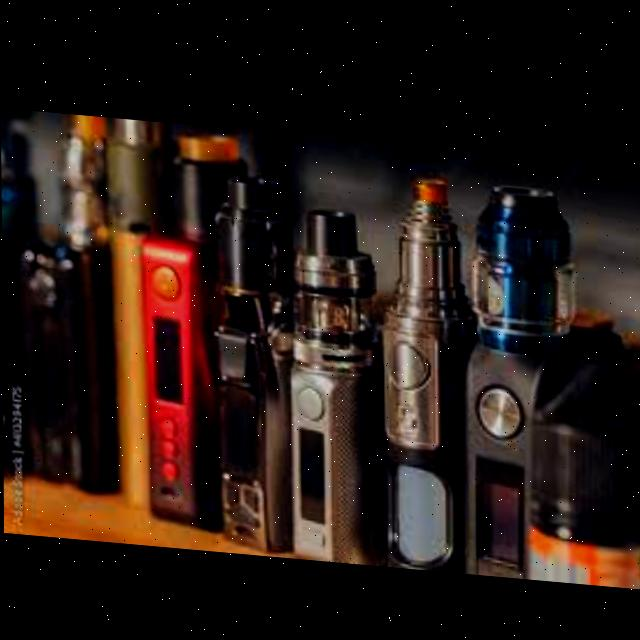vape: (461, 170, 640, 577), (143, 131, 247, 526), (380, 158, 474, 565), (24, 110, 116, 488), (296, 198, 379, 559), (212, 164, 286, 551)
